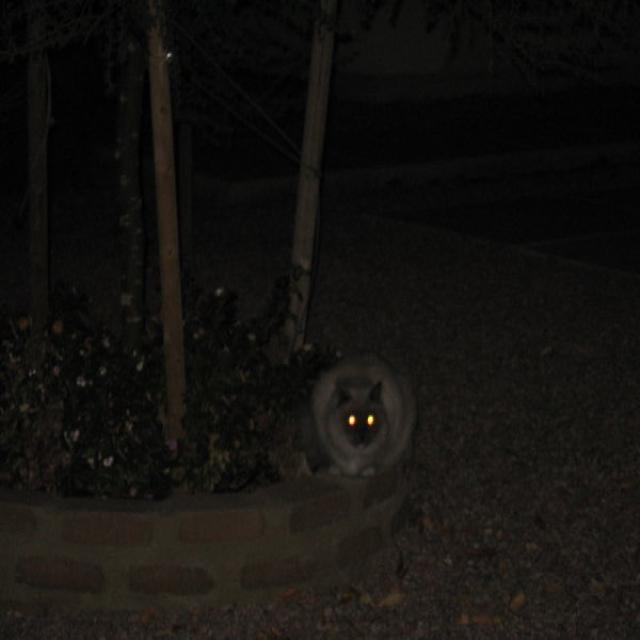Cat: (301, 346, 439, 498)
